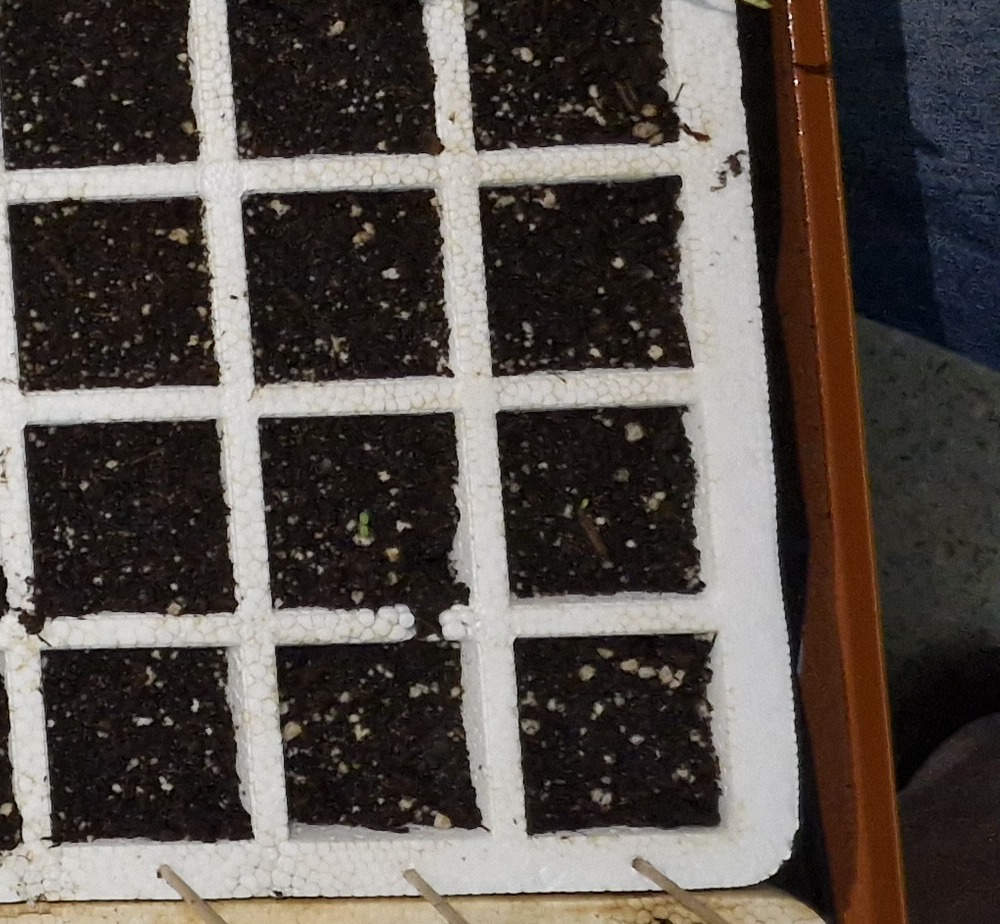Folha: (360, 513, 369, 524), (360, 526, 368, 537)
Germinacao: (360, 513, 369, 537)
